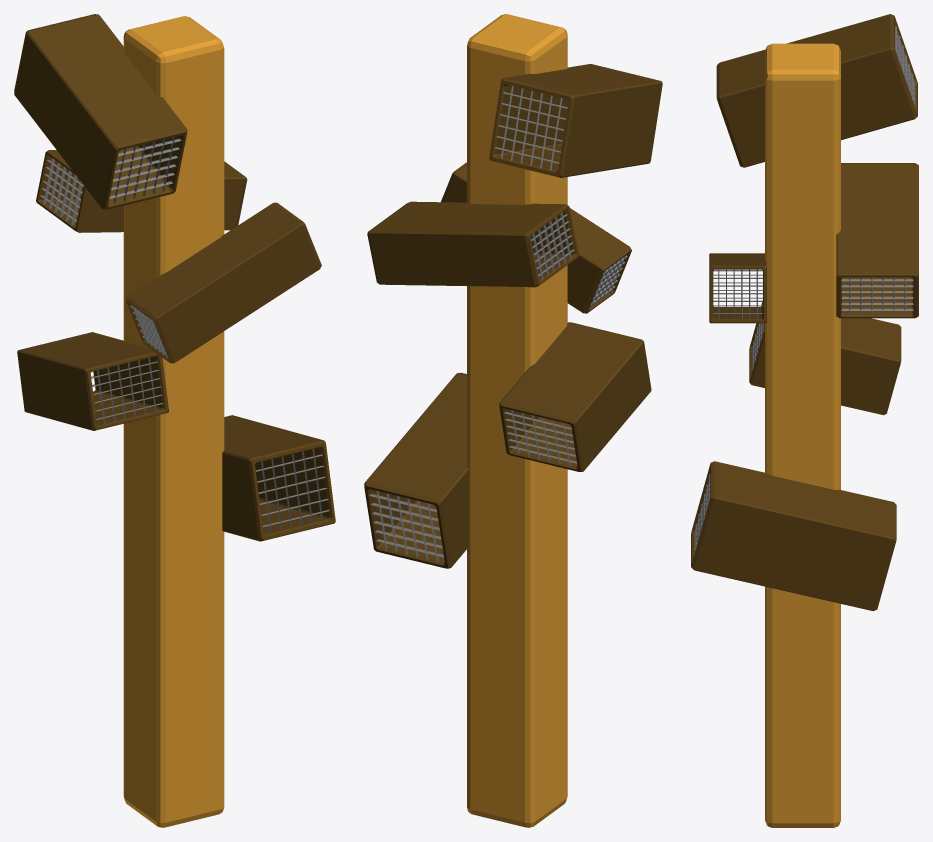
File: Insect_Hotel.fbx
3 views of the same model, side by side, from view 1: azimuth 30°, elevation 25°; view 2: azimuth 150°, elevation 25°; view 3: azimuth 270°, elevation 25° (orthographic). The views are drawn at different scales.
Visible parts, largest first — view 1: Cube.023; view 2: Cube.023; view 3: Cube.023.
Boxes of the visible parts, bbox=[...] form: Cube.023: bbox=[14, 14, 335, 827]; Cube.023: bbox=[364, 14, 662, 827]; Cube.023: bbox=[691, 14, 918, 827].
Bounding box in the file's own units: 33.32 × 115 × 31.4.
